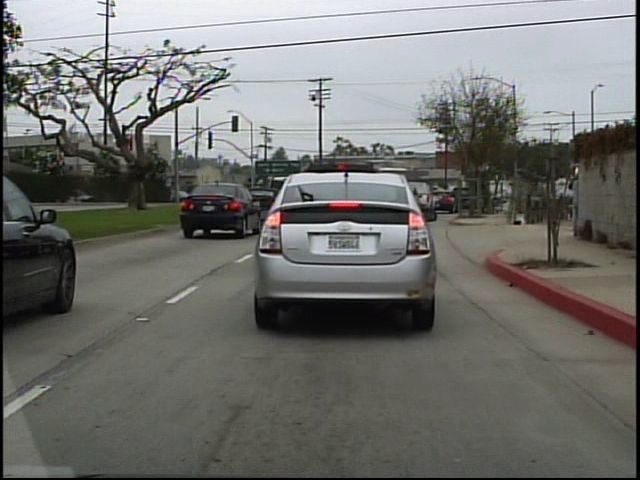person: (563, 162, 586, 243)
